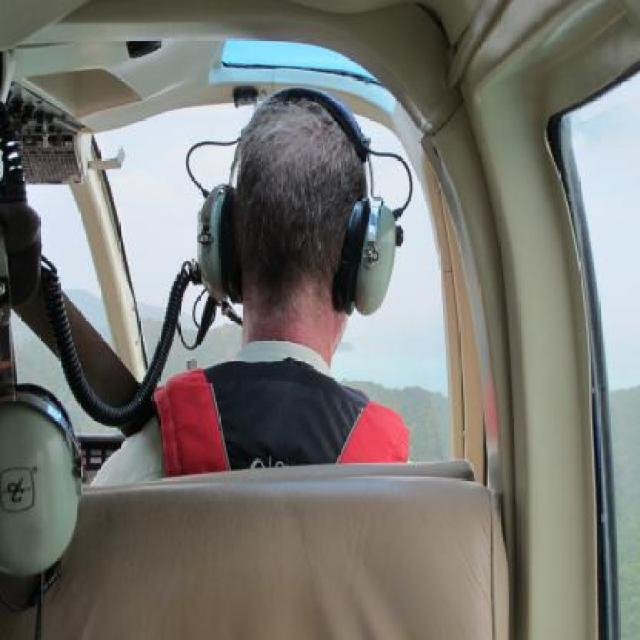earphone: (175, 148, 432, 305)
